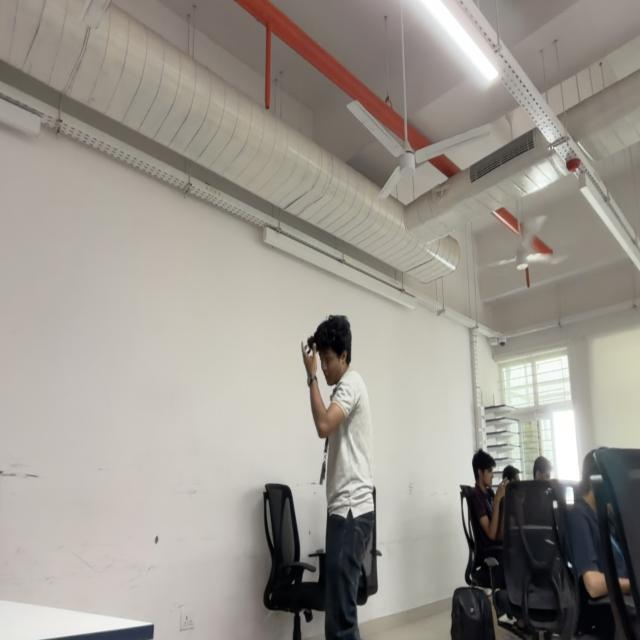kshitij: (309, 314, 352, 386)
